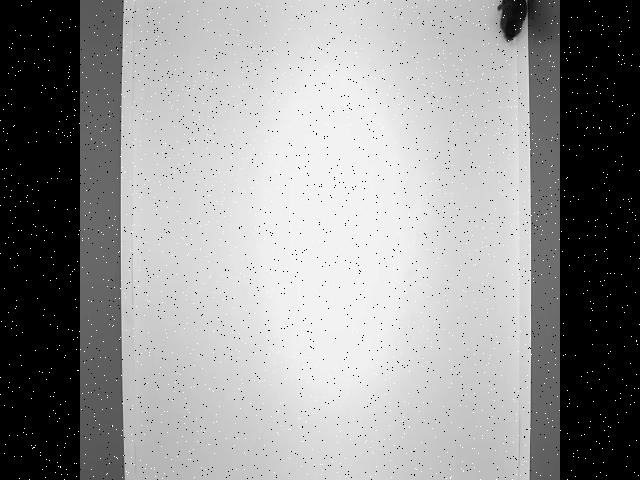Tikus: (495, 0, 539, 44)
